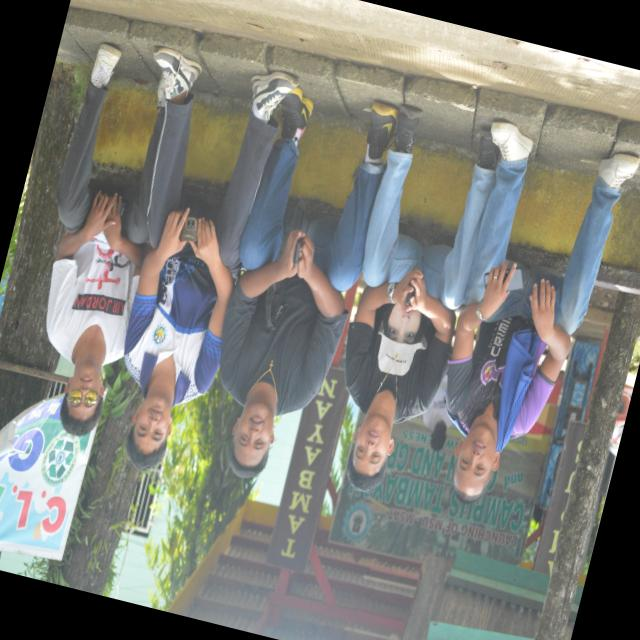person: (446, 121, 638, 502), (124, 47, 297, 469), (220, 88, 397, 476), (345, 105, 498, 491), (46, 43, 163, 434), (422, 375, 452, 450)
